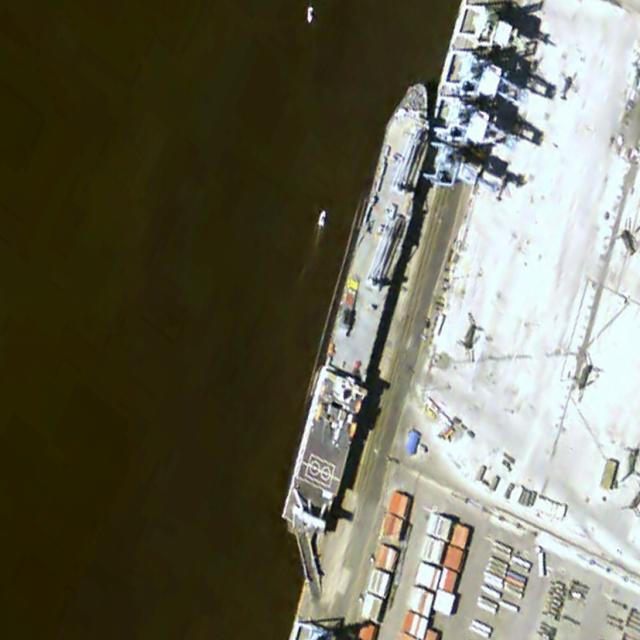Cargo: (277, 74, 450, 541)
